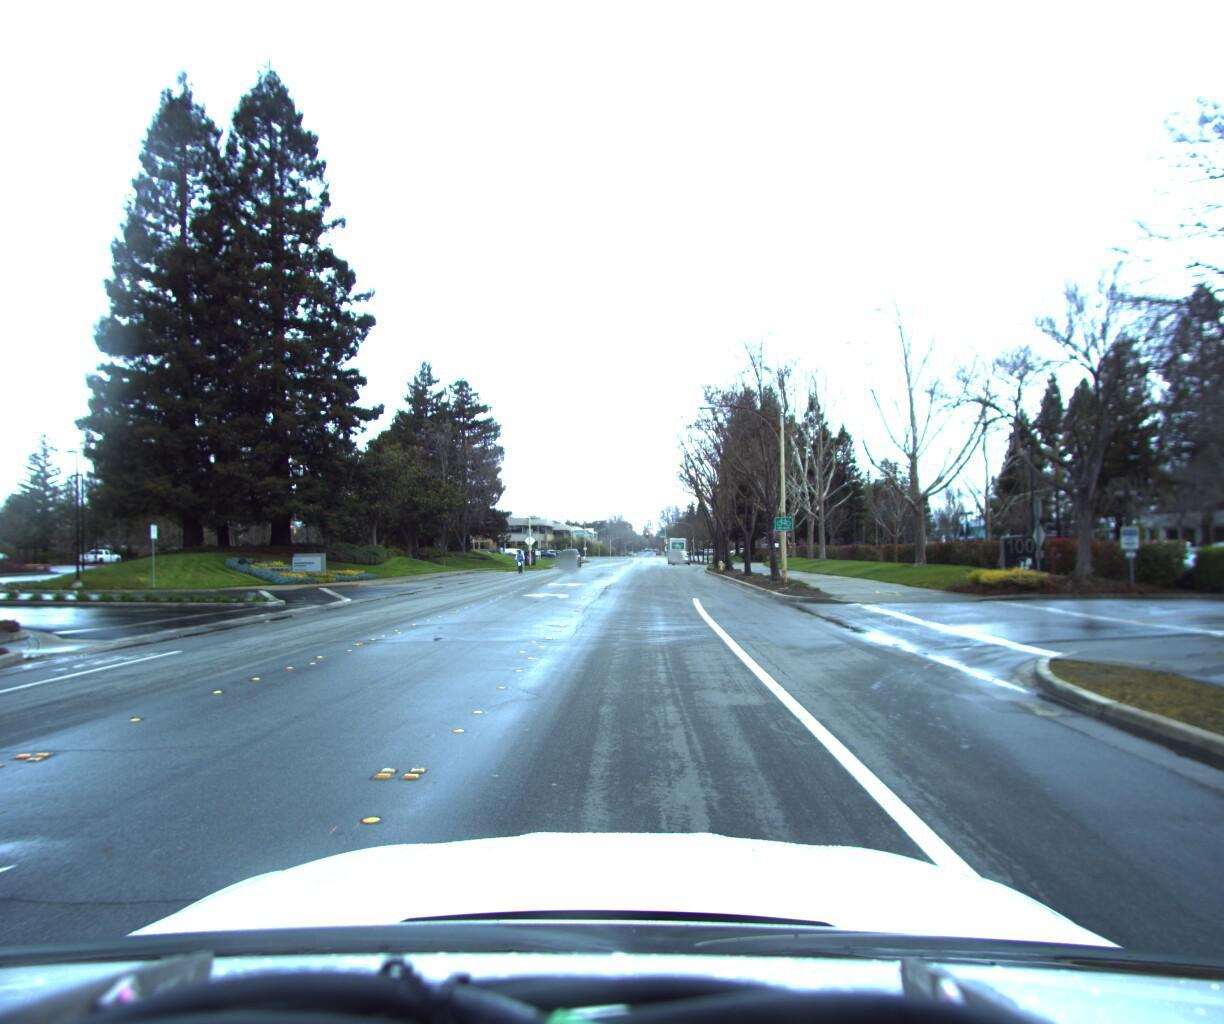bicycle: (511, 549, 525, 574)
car: (670, 550, 688, 566)
